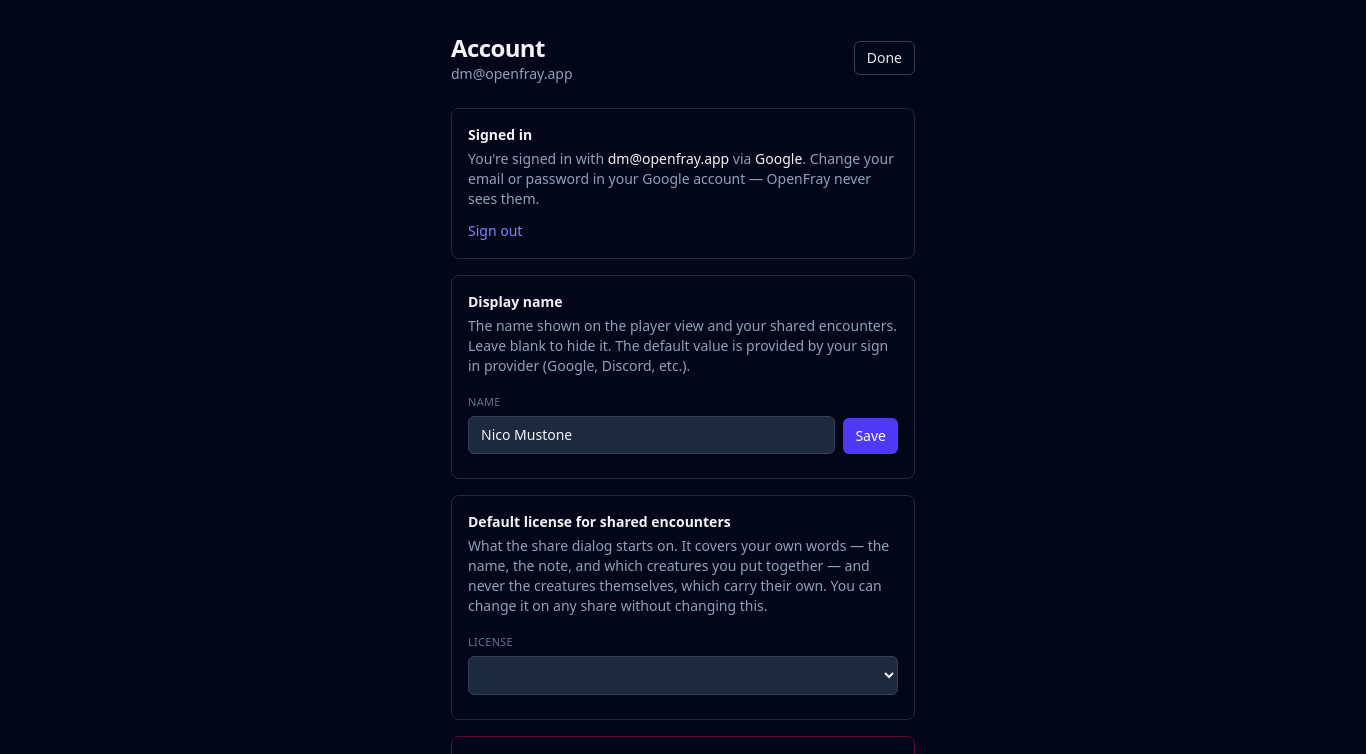
Test: AccountPanel — display name › shows the name shared encounters publish under, and saves a new one
This screenshot has width=1366, height=754.
Replace the text in the field labelled "Name" with "Nico Verdi" at (652, 435), box left=468, top=416, right=835, bottom=454
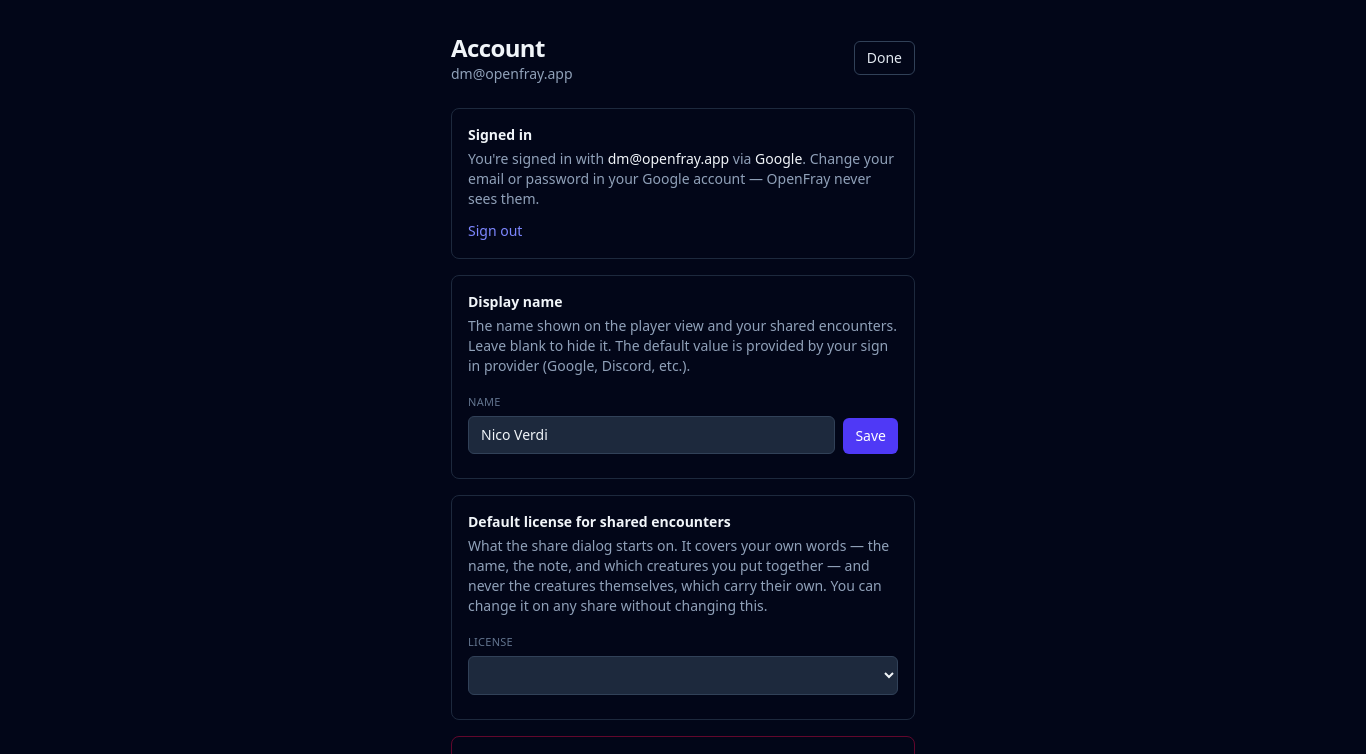
Click the button "Save".
click(871, 436)  # box left=843, top=418, right=898, bottom=454
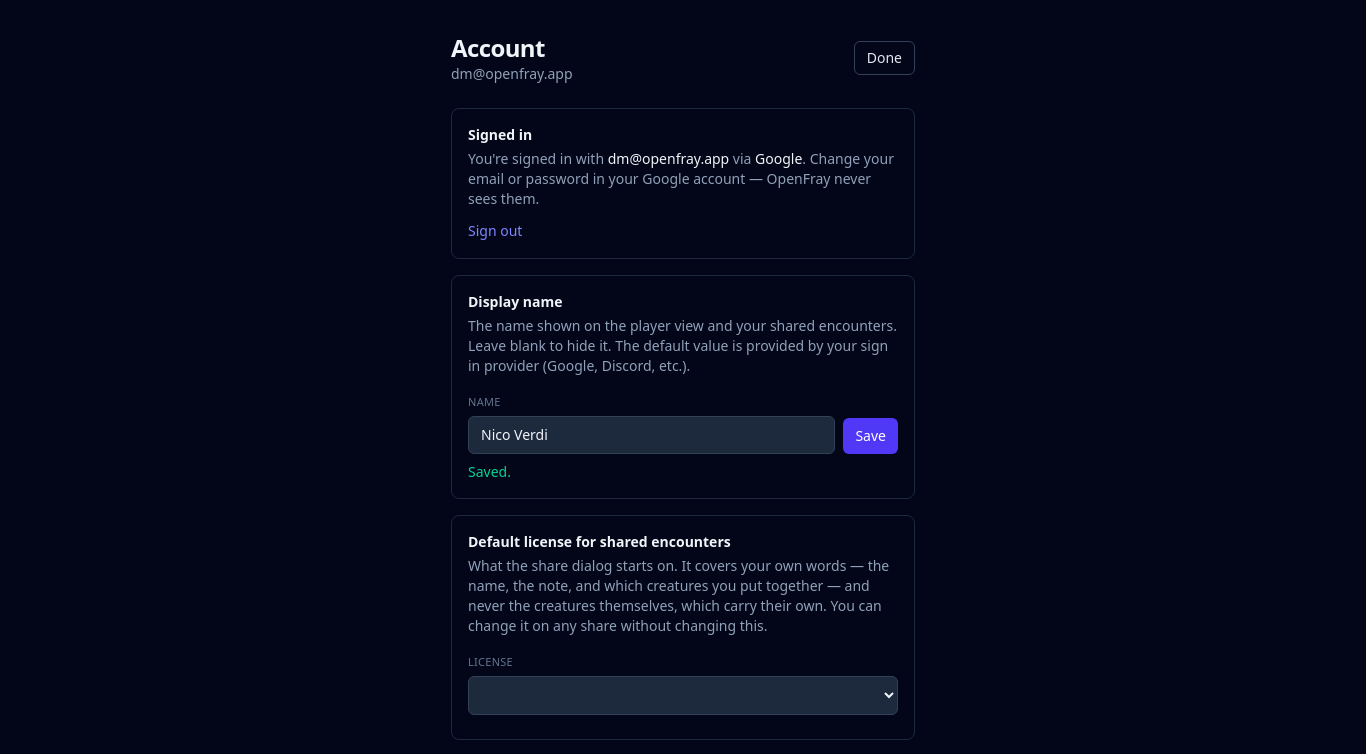
Check: the text "Saved." is shown, box left=468, top=462, right=511, bottom=481
